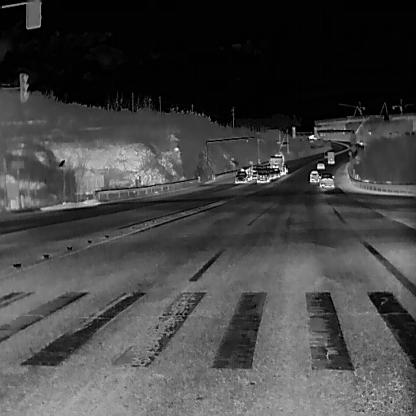car: (318, 172, 333, 188), (255, 168, 270, 183), (234, 170, 248, 184), (264, 166, 276, 180), (309, 169, 318, 182), (272, 166, 280, 178), (254, 164, 263, 174), (316, 159, 325, 169), (251, 167, 258, 179), (282, 163, 288, 173), (262, 163, 270, 170), (358, 140, 363, 144), (327, 138, 331, 142)
truck: (268, 150, 286, 175), (238, 166, 253, 181), (326, 150, 335, 164)
